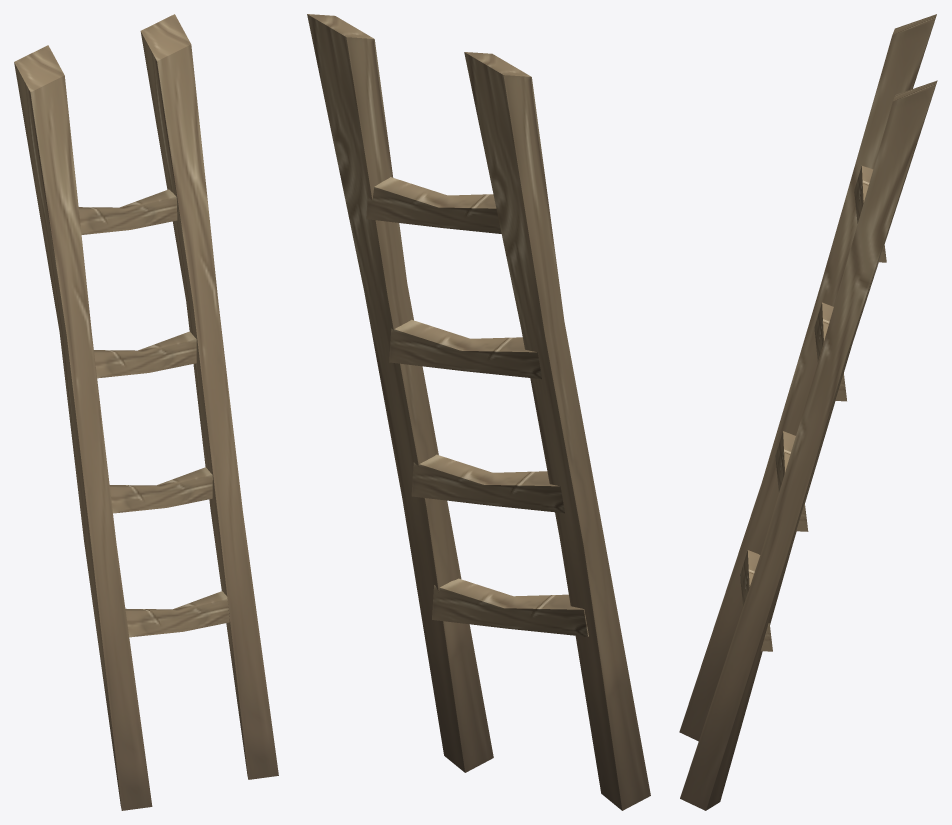
File: Egypt_Village_Props_22.FBX
3 views of the same model, side by side, from view 1: azimuth 30°, elevation 25°; view 2: azimuth 150°, elevation 25°; view 3: azimuth 270°, elevation 25° (orthographic). The views are drawn at different scales.
Visible parts, largest first — view 1: Egypt_Village_Props_22; view 2: Egypt_Village_Props_22; view 3: Egypt_Village_Props_22.
Boxes of the visible parts, x1,y1,x2,y2 form: Egypt_Village_Props_22: [14, 14, 278, 810]; Egypt_Village_Props_22: [307, 14, 650, 810]; Egypt_Village_Props_22: [679, 14, 937, 810].
Bounding box in the file's own units: 104 × 409 × 131.
